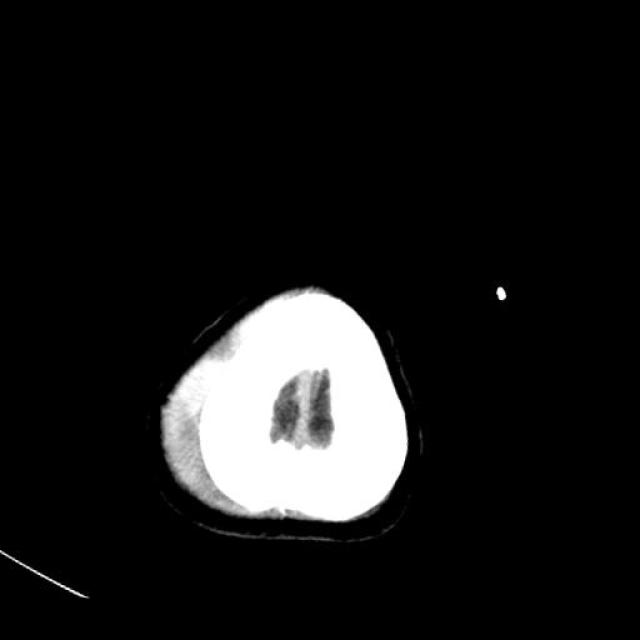Subdural: (258, 344, 346, 474)
